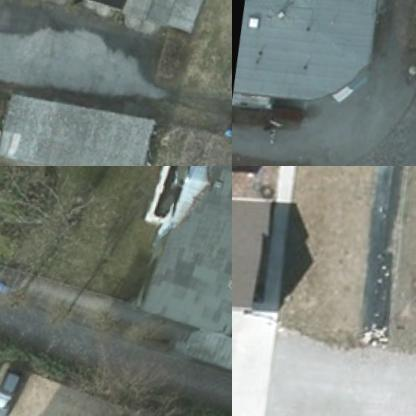car: (0, 368, 28, 415)
